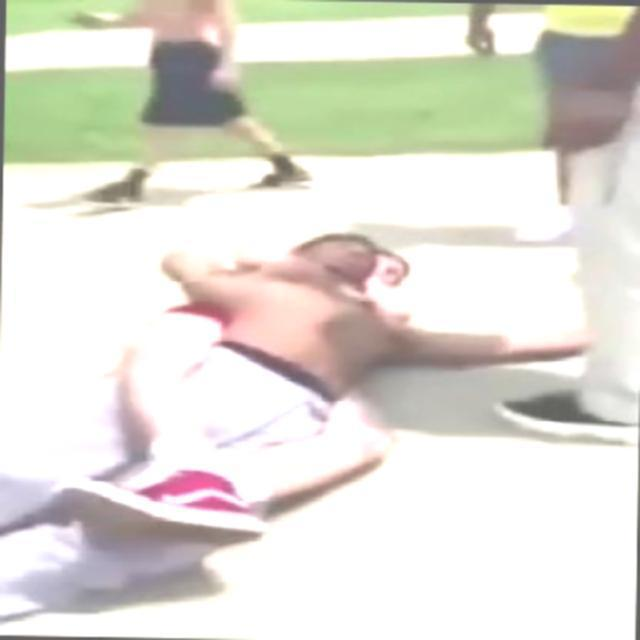fight: (88, 227, 434, 616)
